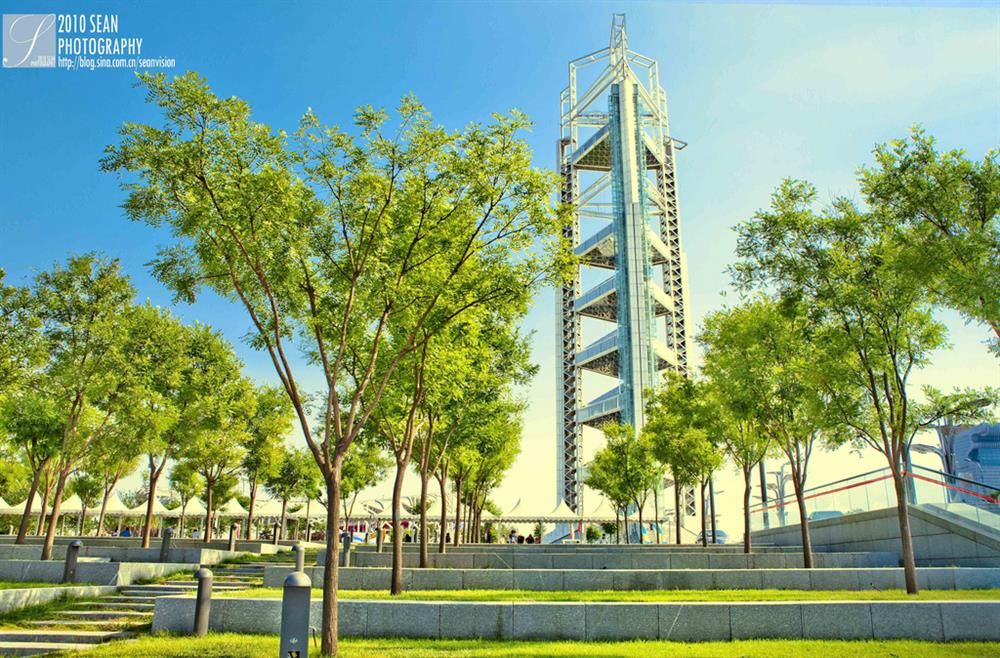LingLong_Pagoda: (545, 27, 699, 513)
